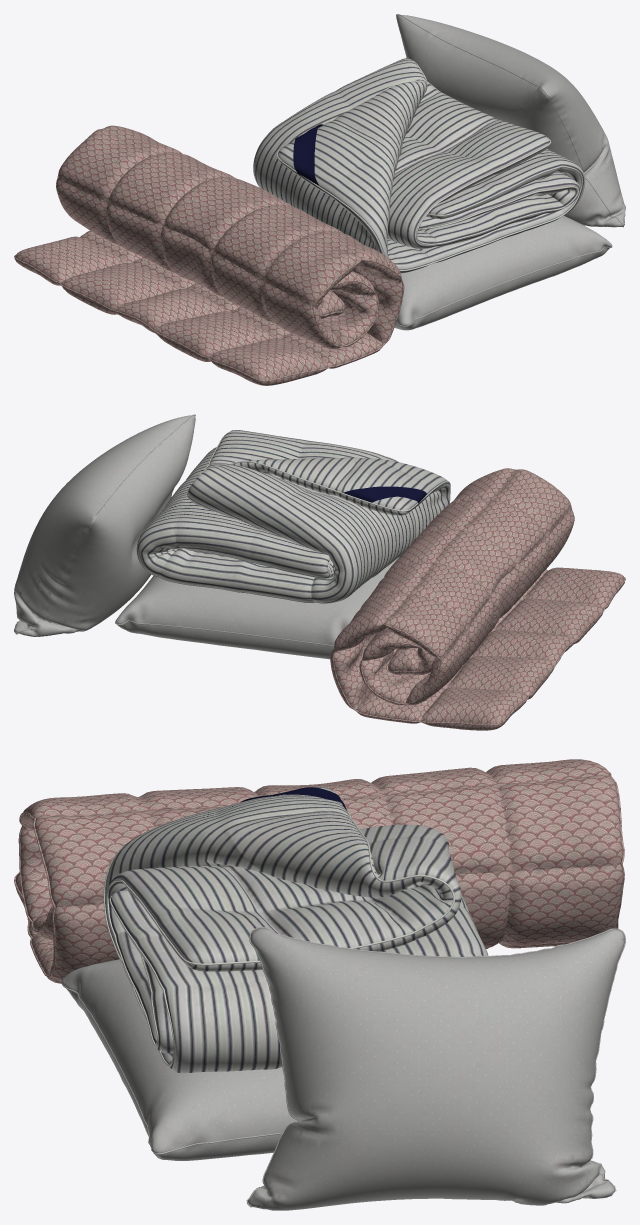
Rendered from blanket_pillows.glb.
3 views of the same model, one above another, from view 1: azimuth 30°, elevation 25°; view 2: azimuth 150°, elevation 25°; view 3: azimuth 270°, elevation 25° (orthographic). The views are drawn at different scales.
Parts seen in each view (by area): view 1: blanket_round_blanket_round_0, blanket_fabric_blanket_fabric_0, pillow_seams_pillows_with_seams_0, blanket_seams_blanket_seams_0, silk_tag_tag_0; view 2: blanket_round_blanket_round_0, blanket_fabric_blanket_fabric_0, pillow_seams_pillows_with_seams_0, silk_tag_tag_0, blanket_seams_blanket_seams_0; view 3: pillow_seams_pillows_with_seams_0, blanket_fabric_blanket_fabric_0, blanket_round_blanket_round_0, blanket_seams_blanket_seams_0.
Part boxes in pixels (x1,y1,x2,y2): blanket_round_blanket_round_0: [14, 125, 404, 385]; blanket_fabric_blanket_fabric_0: [253, 58, 585, 273]; pillow_seams_pillows_with_seams_0: [394, 14, 625, 330]; blanket_seams_blanket_seams_0: [276, 60, 582, 271]; silk_tag_tag_0: [293, 124, 323, 185]; blanket_round_blanket_round_0: [330, 468, 625, 730]; blanket_fabric_blanket_fabric_0: [136, 430, 450, 603]; pillow_seams_pillows_with_seams_0: [14, 414, 399, 659]; silk_tag_tag_0: [343, 486, 426, 503]; blanket_seams_blanket_seams_0: [187, 435, 450, 574]; pillow_seams_pillows_with_seams_0: [61, 927, 625, 1210]; blanket_fabric_blanket_fabric_0: [104, 787, 488, 1073]; blanket_round_blanket_round_0: [14, 759, 624, 983]; blanket_seams_blanket_seams_0: [103, 792, 454, 1066].
Bounding box in the file's own units: 1.76 × 0.5162 × 1.23.
Materials: 5 (4 with a texture image).
